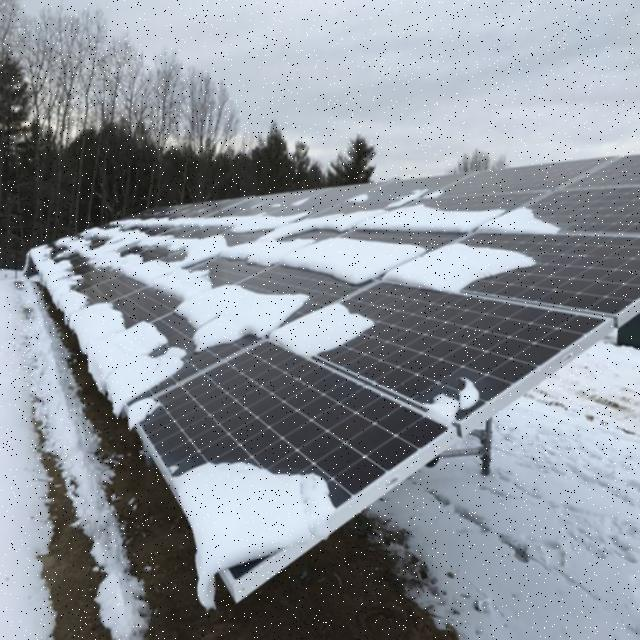snow covered: (61, 199, 520, 398), (129, 338, 443, 578), (278, 229, 637, 423)
